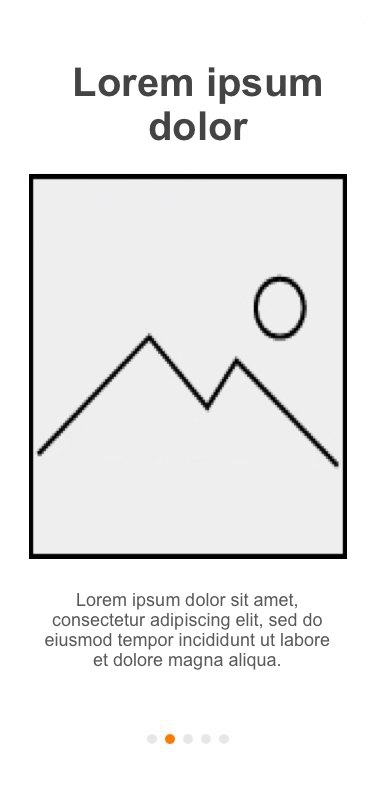Image: (29, 174, 348, 560)
PageIndicator: (147, 733, 231, 745)
Text: (45, 592, 330, 671), (74, 67, 323, 142)
